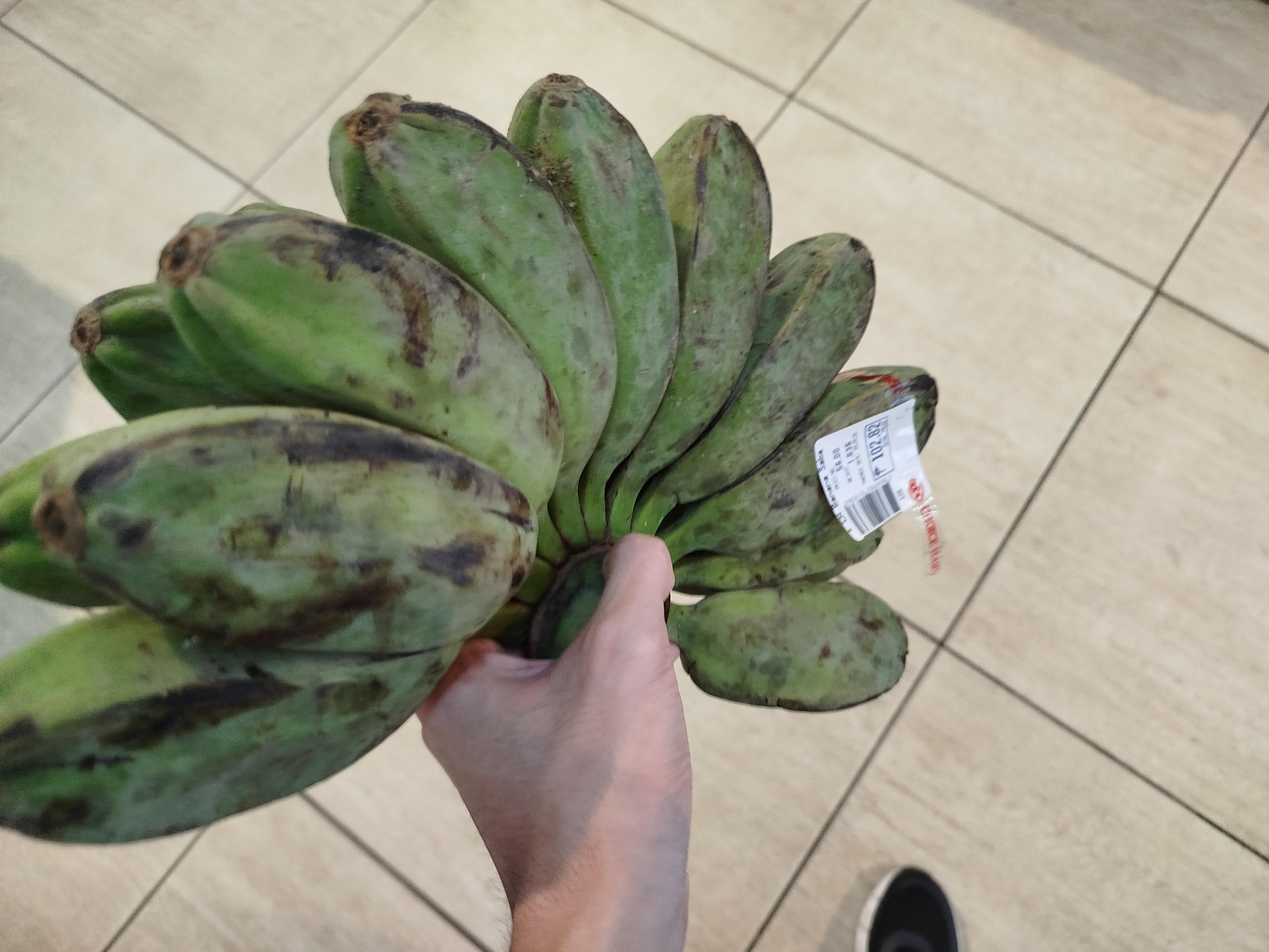underripe: (0, 75, 936, 841)
